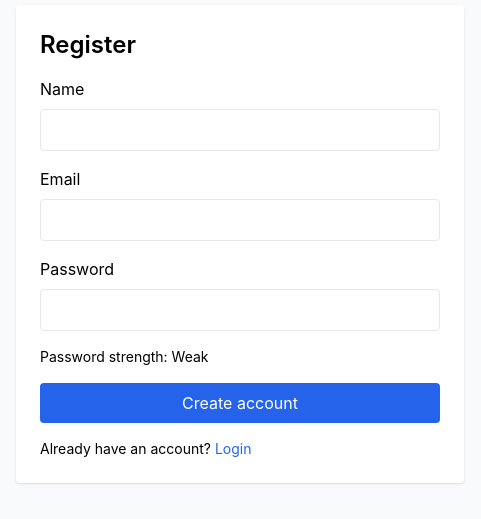
Scenario: RegisterPage › shows email validation error for invalid email
Type "New User" into the field labelled "Name" at (240, 130), box left=40, top=109, right=440, bottom=151
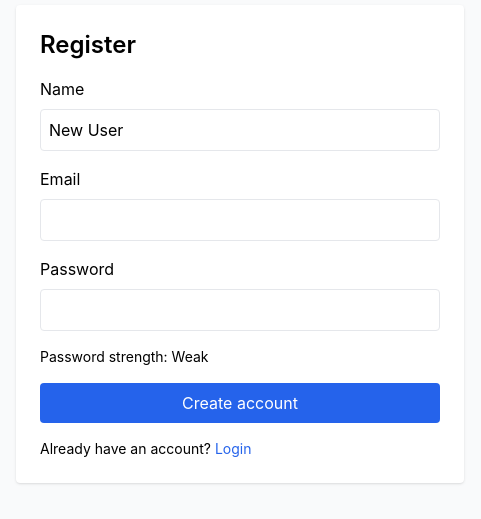
Type "not-an-email" into the field labelled "Email" at (240, 220), box left=40, top=199, right=440, bottom=241
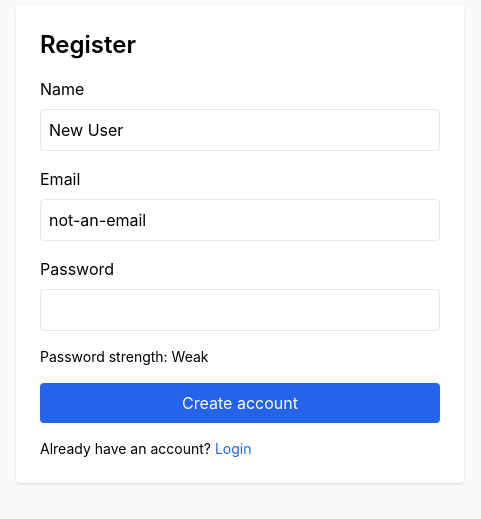
Type "password123" into the password field labelled "Password" at (240, 310), box left=40, top=289, right=440, bottom=331
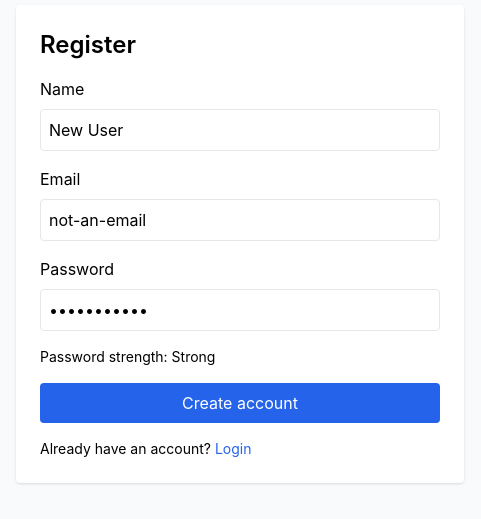
Click the button "Create account" at (240, 403), box left=40, top=383, right=440, bottom=423
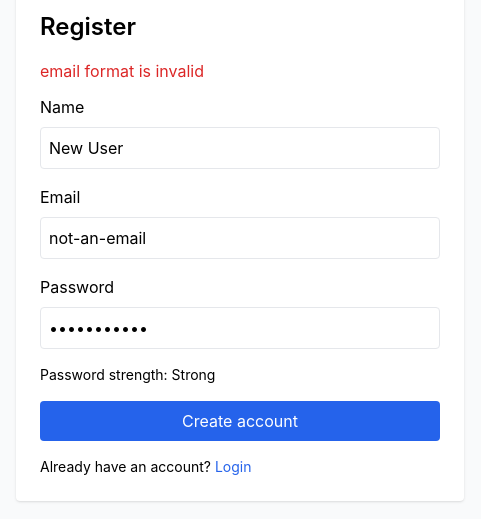
expect the message reads "email format is invalid": met, box left=40, top=61, right=204, bottom=81
